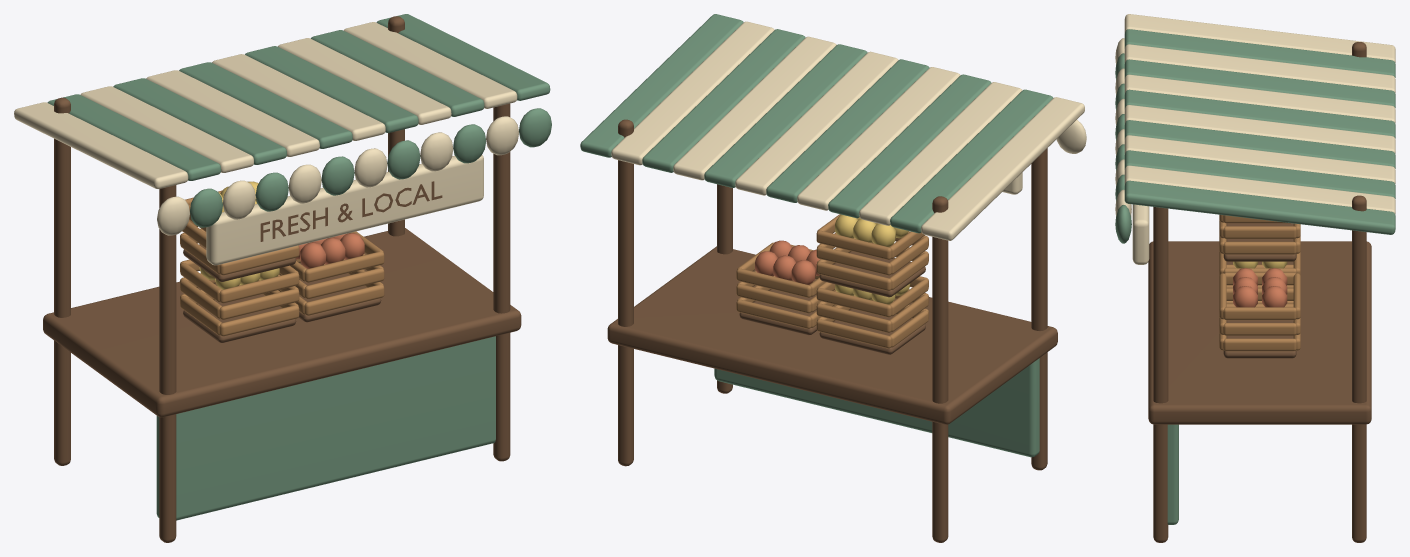
The model's file is market-stall.glb.
3 views of the same model, side by side, from view 1: azimuth 30°, elevation 25°; view 2: azimuth 150°, elevation 25°; view 3: azimuth 270°, elevation 25° (orthographic). The views are drawn at different scales.
Parts seen in each view (by area): view 1: market-stall_World_Mesh, Crate_Mesh, Crate.001_Mesh, Crate.002_Mesh; view 2: market-stall_World_Mesh, Crate.002_Mesh, Crate_Mesh, Crate.001_Mesh; view 3: market-stall_World_Mesh, Crate.001_Mesh, Crate.002_Mesh, Crate_Mesh.
Boxes of the visible parts, x1,y1,x2,y2 form: market-stall_World_Mesh: (14, 14, 551, 542); Crate_Mesh: (180, 259, 299, 342); Crate.001_Mesh: (278, 231, 384, 322); Crate.002_Mesh: (180, 181, 299, 281); market-stall_World_Mesh: (580, 14, 1086, 542); Crate.002_Mesh: (816, 214, 928, 297); Crate_Mesh: (816, 276, 928, 354); Crate.001_Mesh: (736, 240, 835, 335); market-stall_World_Mesh: (1115, 14, 1395, 542); Crate.001_Mesh: (1219, 268, 1300, 358); Crate.002_Mesh: (1219, 214, 1300, 261); Crate_Mesh: (1219, 251, 1300, 303).
Size of the model in its own units: 2.61 by 2.41 by 1.69.
